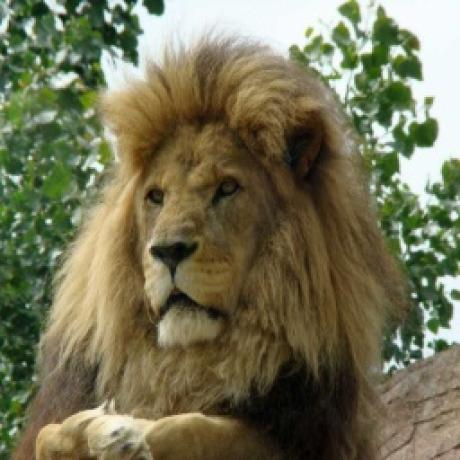Lion: (2, 30, 408, 460)
